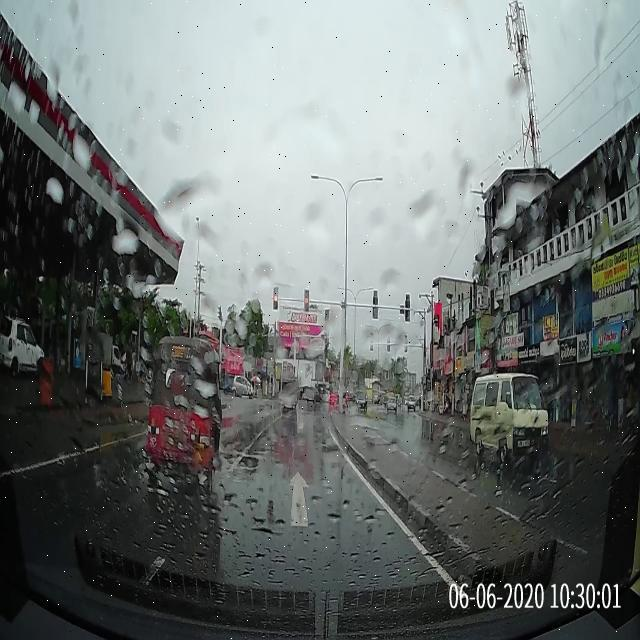forward: (165, 450, 436, 554)
